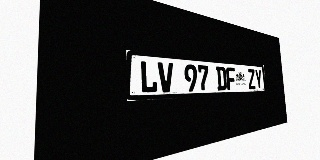7: (197, 65, 210, 91)
9: (184, 64, 198, 92)
D: (216, 66, 227, 90)
F: (226, 67, 236, 90)
L: (140, 60, 158, 93)
V: (158, 62, 174, 93)
Y: (255, 69, 263, 89)
Z: (247, 69, 256, 89)
